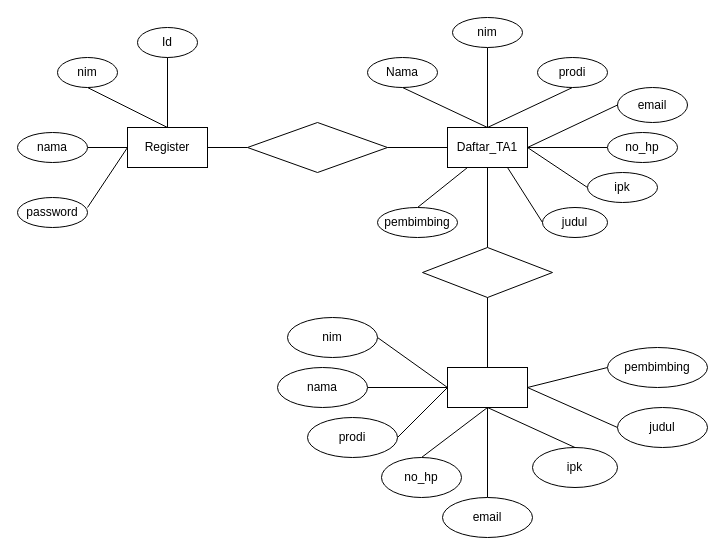
Image size: 725x555. Some labels were removed from this diagram. The centre of each missing label's shape, as x and y in pixels:
"Daftar_TA2" belongs at (x=487, y=387).
"Melanjutkan" belongs at (x=487, y=272).
"Mendaftar" belongs at (x=317, y=147).
